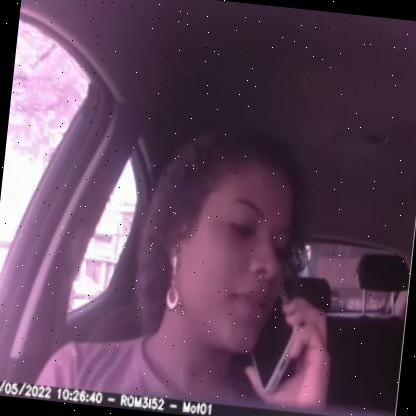phone: (244, 282, 310, 402)
